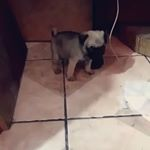puppy: (44, 25, 106, 84)
